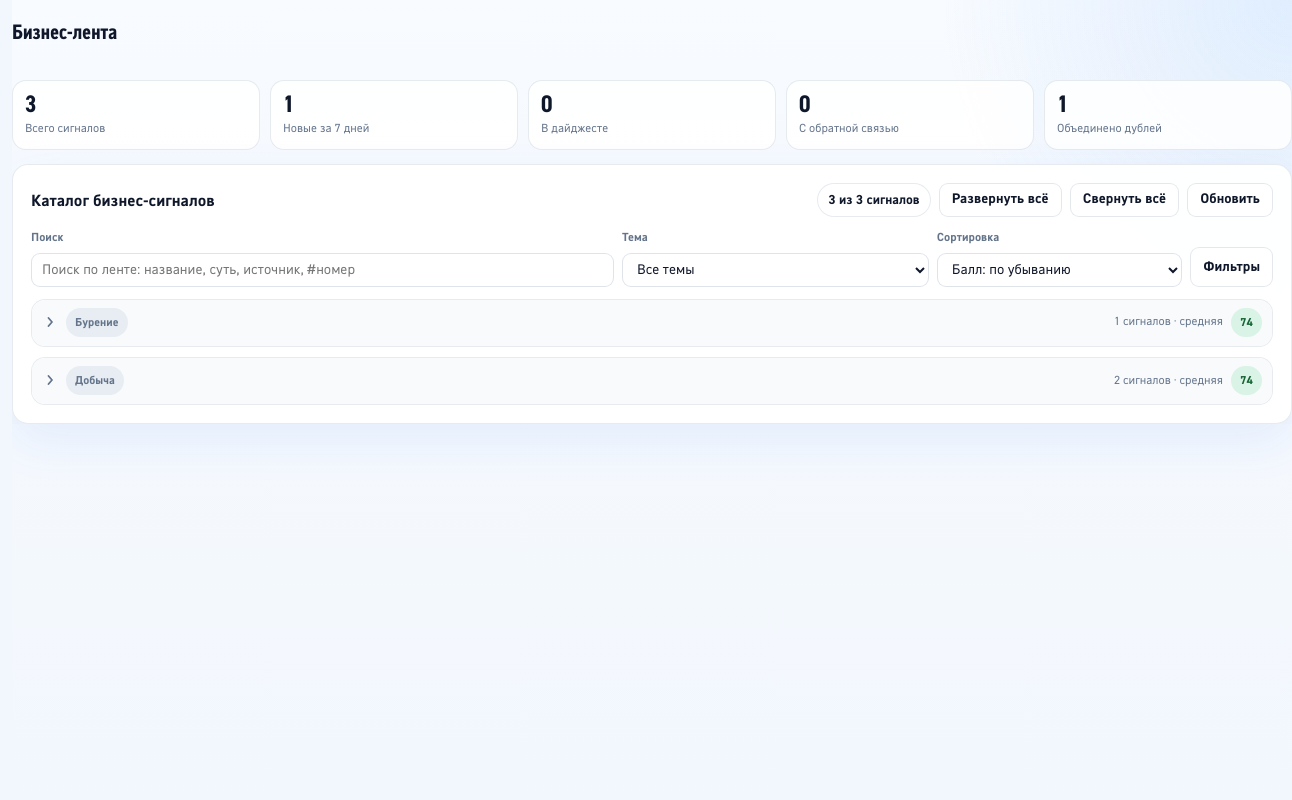
бизнес-лента: фильтры и «всё про компанию» › компания с дочками по списку: рядом с полем видно, кого фильтр добавил; без дочек подсказки нет
Expected: the button "Развернуть всё" is shown, [939,183,1062,217]
Click the button "Фильтры" at (1232, 266), box [1190,246,1273,286]
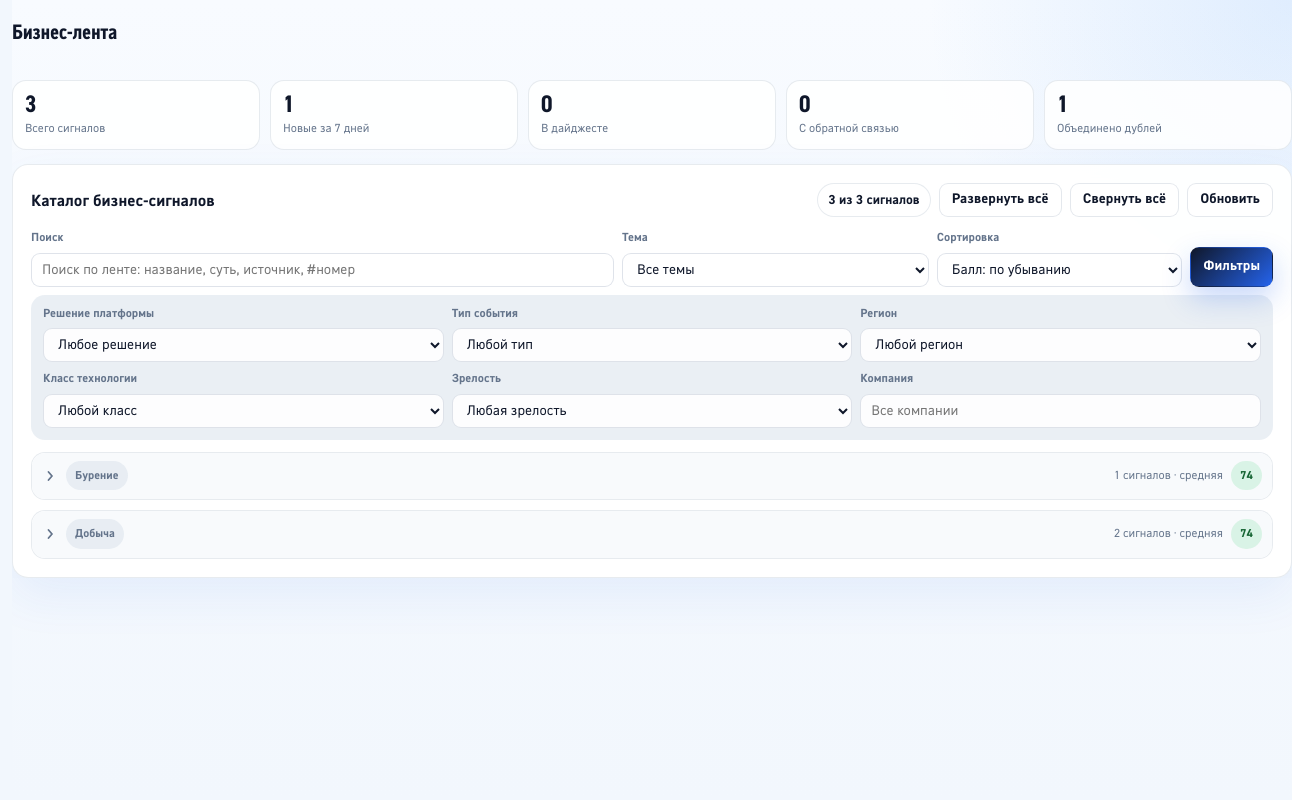
Type " Газпром нефть " into the field labelled "Компания" at (1061, 411), box [860,394,1261,428]
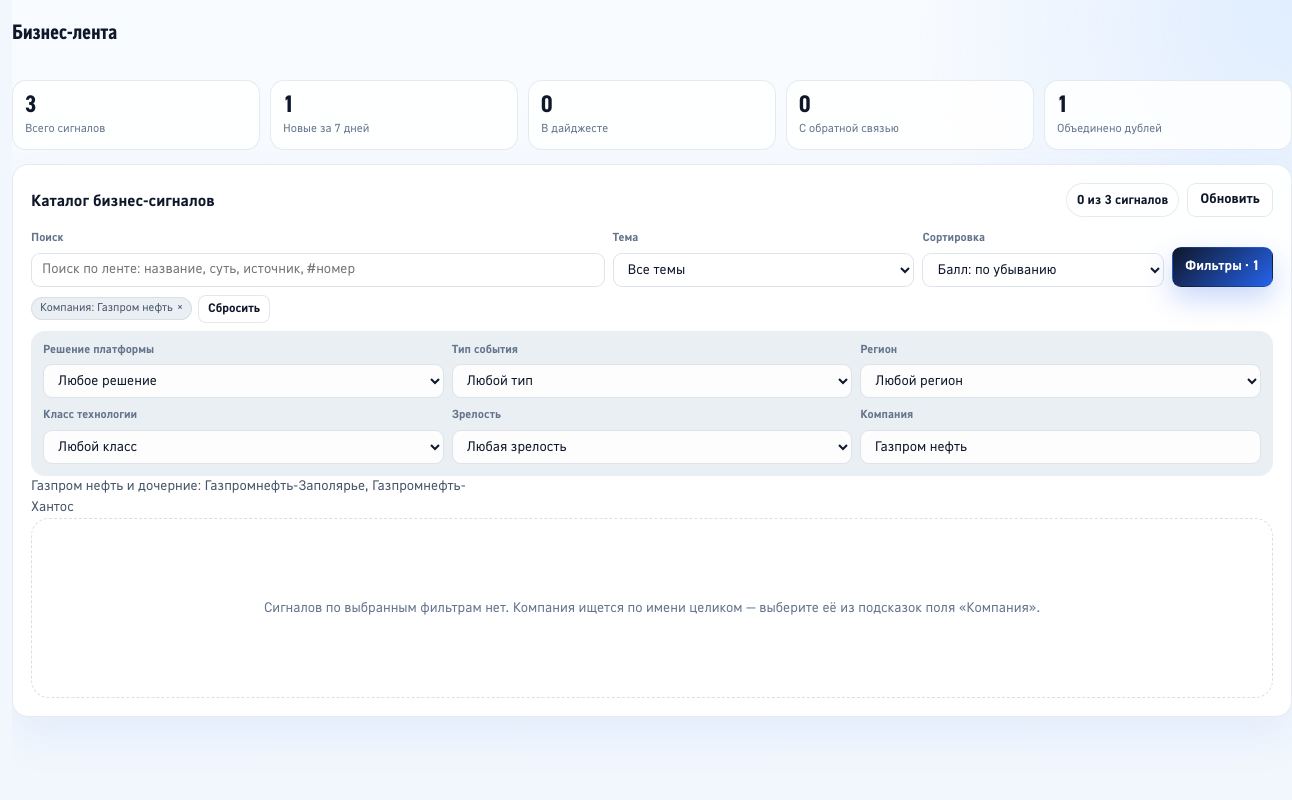
Expected: the text "Газпром нефть и дочерние: Газпромнефть-Заполярье, Газпромнефть-Хантос" is shown, [31,476,500,518]
Дочек у компании нет: сводка пришла (в выборке её сделка), подсказки нет.
Replace the text in the field labelled "Компания" with "Роснефть" at (1061, 447), box [860,430,1261,464]
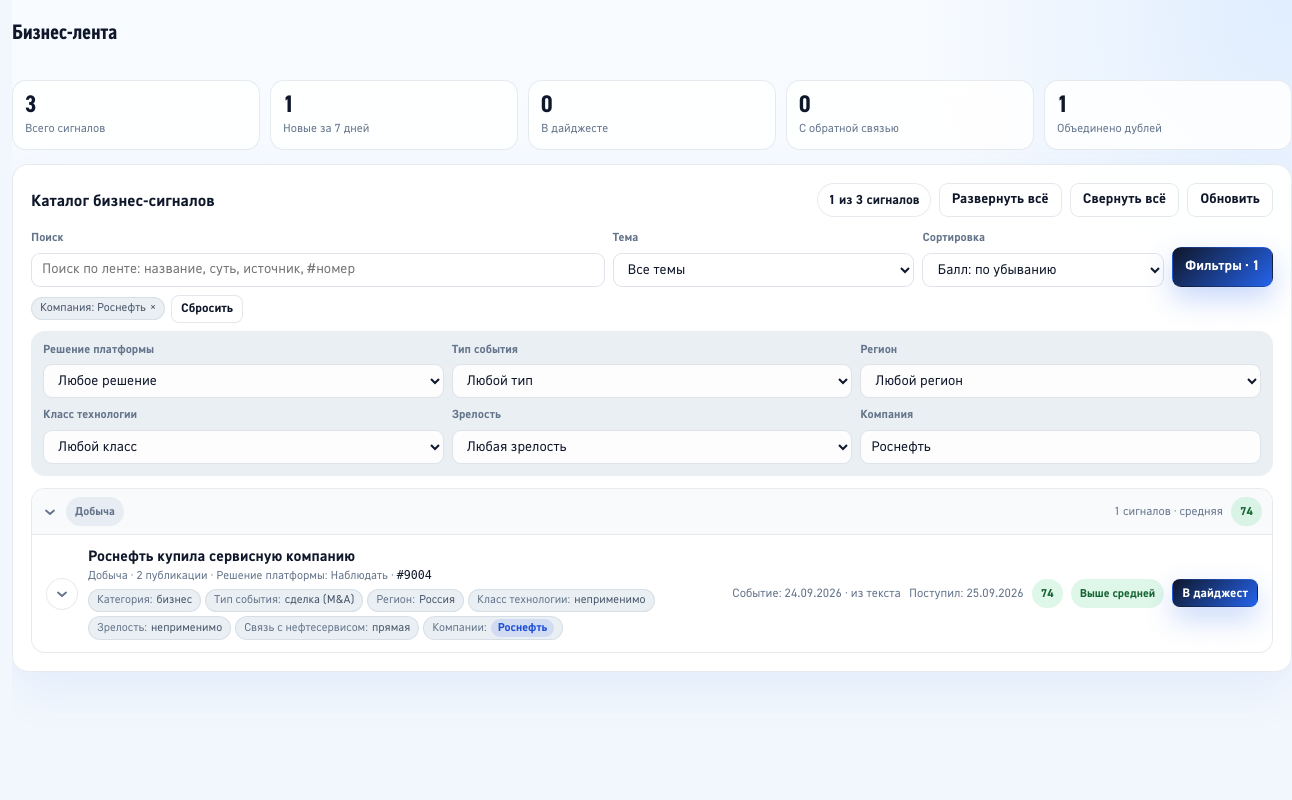
Expected: the text "1 из 3 сигналов" is shown, [817,183,931,217]
Expected: the text "и дочерние:" is gone
